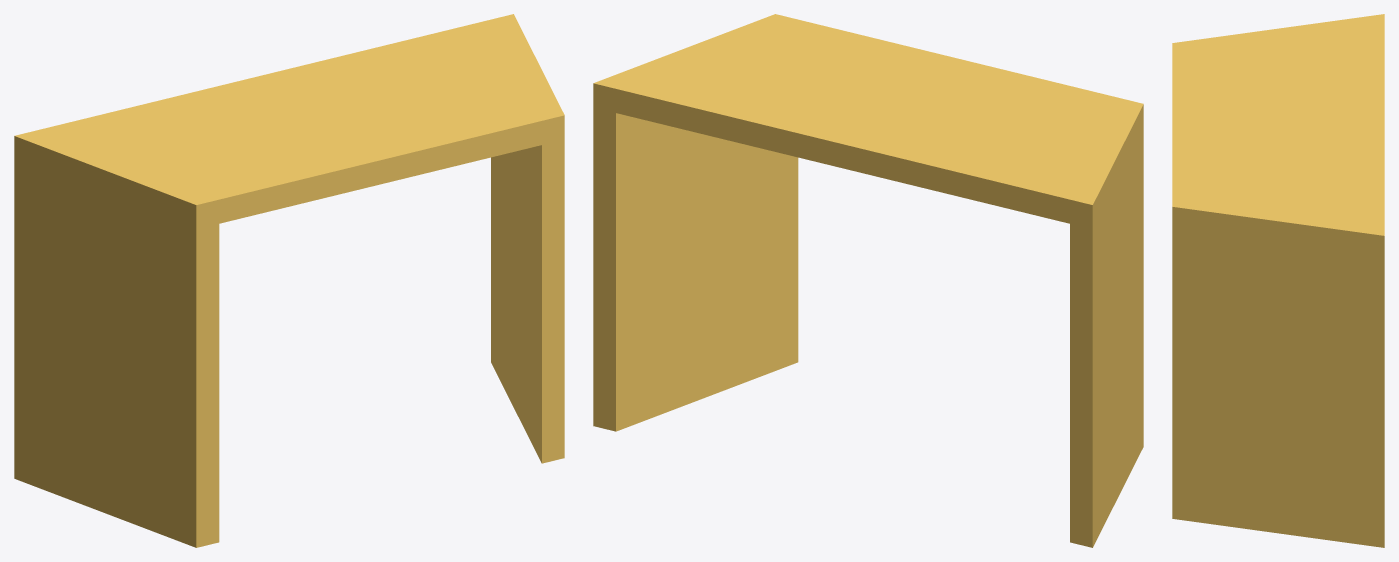
File: Prop_F5_PentagonDesk.fbx
The picture shows the model from 3 angles, left to right: view 1: azimuth 30°, elevation 25°; view 2: azimuth 150°, elevation 25°; view 3: azimuth 270°, elevation 25°; orthographic projection. The views are drawn at different scales.
Visible parts, largest first — view 1: Prop_F5_PentagonDesk; view 2: Prop_F5_PentagonDesk; view 3: Prop_F5_PentagonDesk.
Boxes of the visible parts, x1=… form: Prop_F5_PentagonDesk: x1=14, y1=14, x2=564, y2=547; Prop_F5_PentagonDesk: x1=593, y1=14, x2=1143, y2=547; Prop_F5_PentagonDesk: x1=1172, y1=14, x2=1384, y2=547.
Size of the model in its own units: 105 by 68.9 by 42.46.
